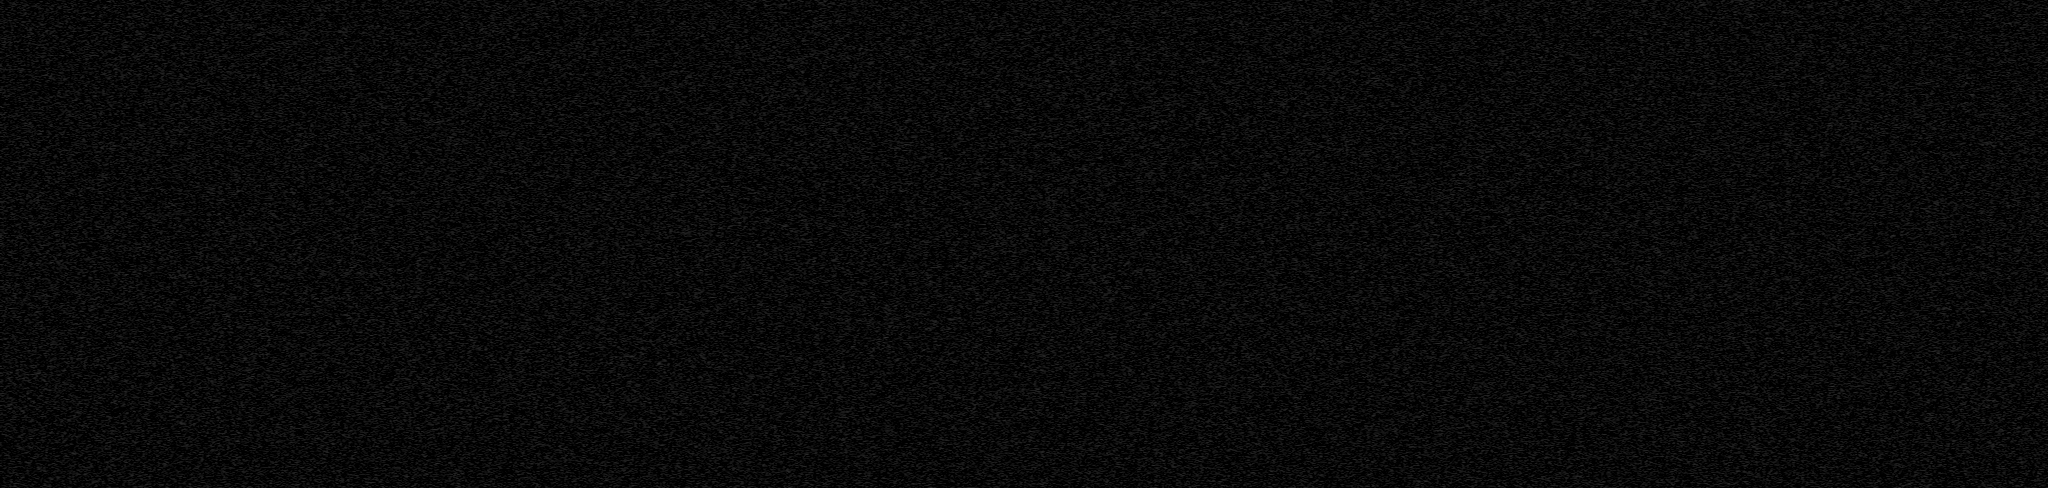wv_am: (1813, 275, 1819, 488), (1813, 63, 1819, 274), (1813, 0, 1819, 53), (1813, 55, 1819, 63)
wv_cw: (1740, 0, 1745, 488)
wv_lsb: (0, 3, 8, 295), (0, 321, 8, 441), (0, 441, 8, 488), (0, 297, 7, 320)
wv_usb: (1883, 1, 1894, 488), (188, 181, 199, 488), (188, 3, 199, 180)
wv_wbfm: (1416, 164, 1567, 448), (1422, 106, 1556, 137), (1381, 37, 1566, 53), (1415, 53, 1580, 69), (1439, 3, 1532, 23), (1387, 25, 1608, 33), (1394, 454, 1571, 463), (1426, 474, 1536, 485), (1411, 300, 1418, 435), (1456, 76, 1541, 87), (1567, 300, 1574, 435), (1404, 0, 1496, 7), (1369, 471, 1481, 476), (1492, 10, 1543, 20), (1506, 21, 1560, 27), (1485, 145, 1501, 164), (1411, 240, 1420, 273), (1428, 8, 1465, 16), (1526, 145, 1540, 164), (1447, 145, 1462, 164), (1544, 435, 1573, 444), (1529, 108, 1562, 116), (1507, 461, 1569, 465), (1418, 81, 1462, 86), (1413, 271, 1433, 282), (1567, 240, 1574, 271), (1411, 164, 1420, 187), (1428, 33, 1477, 37), (1527, 85, 1563, 90), (1533, 14, 1570, 20), (1544, 42, 1579, 47), (1469, 33, 1515, 37), (1409, 221, 1418, 240), (1490, 85, 1524, 90), (1539, 4, 1573, 9), (1565, 166, 1575, 183), (1516, 91, 1549, 97), (1479, 91, 1511, 97), (1381, 465, 1424, 468), (1496, 97, 1539, 100), (1544, 474, 1575, 479), (1421, 465, 1462, 468), (1526, 451, 1565, 455), (1560, 22, 1597, 26), (1548, 467, 1586, 471), (1481, 21, 1516, 25), (1456, 97, 1492, 100), (1514, 70, 1540, 76), (1396, 20, 1430, 23), (1417, 97, 1451, 100), (1396, 479, 1429, 483), (1566, 224, 1574, 240), (1502, 100, 1526, 106), (1463, 100, 1486, 106), (1424, 100, 1447, 106), (1574, 461, 1604, 465), (1420, 76, 1447, 80), (1475, 70, 1502, 74), (1435, 70, 1462, 74), (1418, 449, 1458, 451), (1501, 451, 1526, 455), (1566, 193, 1575, 202), (1411, 193, 1420, 202), (1452, 87, 1484, 90), (1543, 444, 1574, 446), (1565, 277, 1580, 282), (1371, 1, 1401, 4), (1565, 187, 1576, 193), (1409, 158, 1421, 164), (1553, 124, 1565, 130), (1418, 119, 1430, 125), (1391, 33, 1418, 35), (1587, 468, 1614, 471), (1566, 287, 1573, 297), (1409, 187, 1420, 193), (1546, 102, 1563, 106), (1570, 437, 1582, 442), (1566, 451, 1588, 454), (1448, 91, 1471, 94), (1411, 209, 1418, 215), (1467, 449, 1479, 453), (1567, 209, 1574, 215), (1415, 440, 1425, 444), (1563, 151, 1574, 155), (1533, 483, 1549, 485), (1497, 136, 1505, 141), (1371, 26, 1386, 29), (1458, 449, 1467, 453), (1567, 160, 1576, 164), (1409, 151, 1418, 155), (1401, 127, 1411, 130), (1586, 475, 1595, 479), (1557, 117, 1563, 123), (1391, 102, 1404, 104), (1565, 221, 1573, 224), (1404, 271, 1411, 275), (1519, 138, 1526, 142), (1536, 136, 1543, 140), (1459, 136, 1465, 140), (1415, 114, 1421, 117), (1401, 114, 1408, 117), (1430, 18, 1438, 21), (1562, 281, 1567, 284), (1565, 217, 1570, 221), (1409, 217, 1415, 221), (1565, 183, 1570, 187), (1415, 155, 1422, 158), (1563, 158, 1570, 160), (1480, 140, 1486, 142), (1442, 140, 1448, 142), (1563, 111, 1570, 114), (1597, 438, 1601, 442), (1578, 283, 1582, 287), (1400, 277, 1404, 281), (1566, 145, 1570, 149), (1411, 145, 1415, 149), (1411, 114, 1415, 117), (1405, 442, 1411, 445), (1413, 291, 1416, 296), (1582, 278, 1587, 281), (1488, 138, 1493, 141), (1415, 287, 1418, 290)
